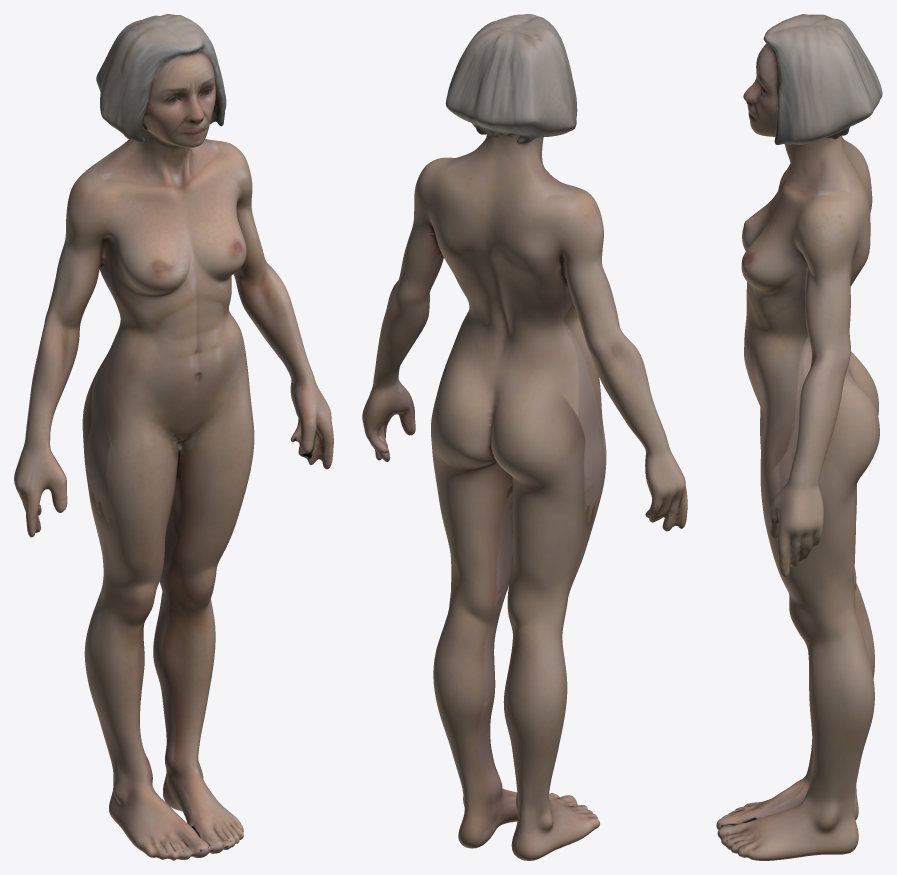
The model's file is oldfemale.glb.
3 views of the same model, side by side, from view 1: azimuth 30°, elevation 25°; view 2: azimuth 150°, elevation 25°; view 3: azimuth 270°, elevation 25° (orthographic).
Size of the model in its own units: 0.8164 by 2 by 0.3701.
Materials: 1 (1 with a texture image).
